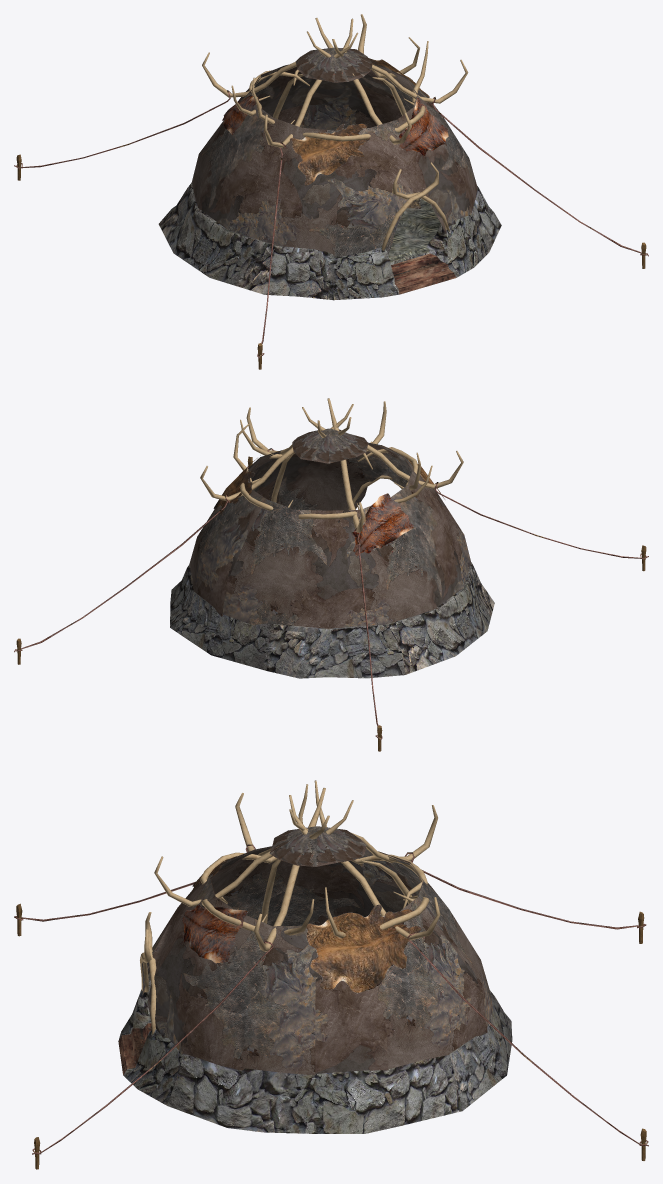
File: boneskin_hut1.FBX
The picture shows the model from 3 angles, top to bottom: view 1: azimuth 30°, elevation 25°; view 2: azimuth 150°, elevation 25°; view 3: azimuth 270°, elevation 25°; orthographic projection. The views are drawn at different scales.
Parts seen in each view (by area): view 1: boneskin_hut1; view 2: boneskin_hut1; view 3: boneskin_hut1.
Boxes of the visible parts, box(x1,y1,x2,y2) form: boneskin_hut1: box(14, 14, 648, 369); boneskin_hut1: box(14, 398, 648, 751); boneskin_hut1: box(14, 780, 648, 1169).
Bounding box in the file's own units: 211 × 104 × 239.
